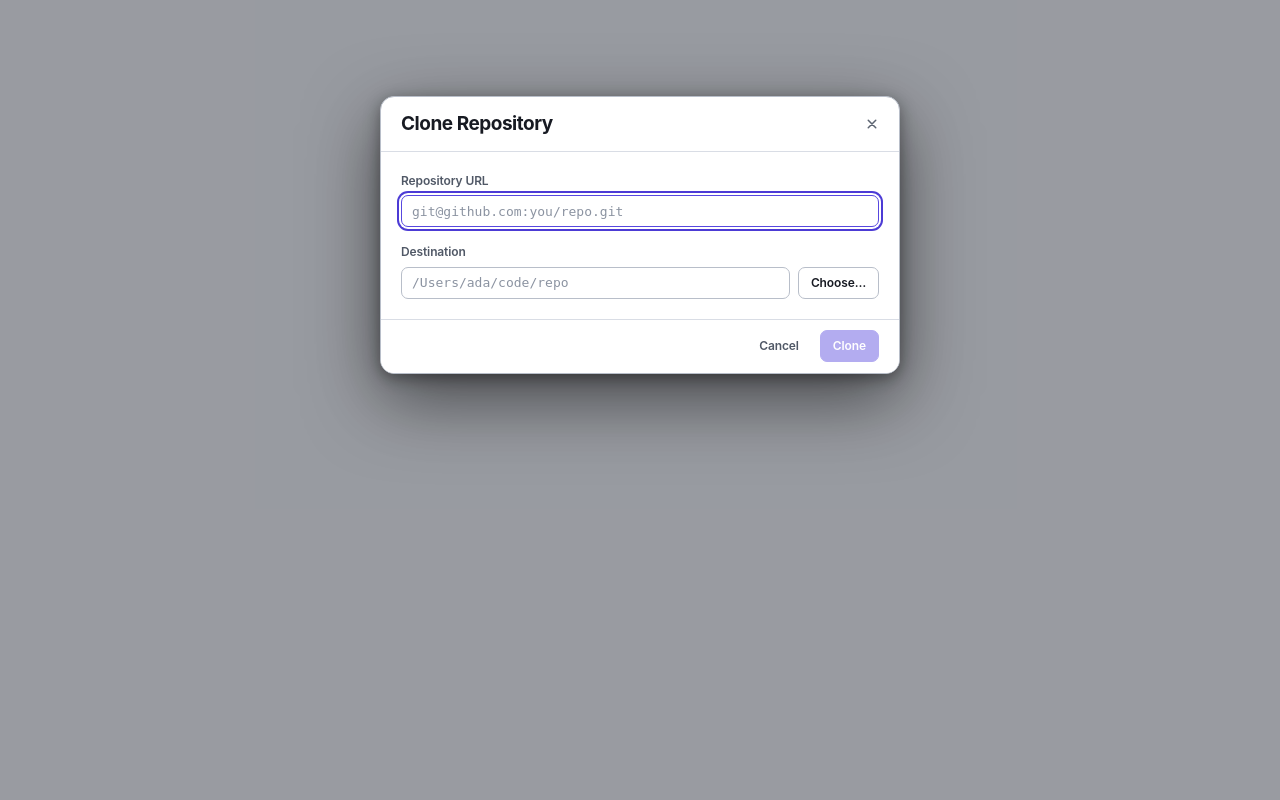
Scenario: cloning › spells the destination out from the home folder, as git will be given it
The image size is (1280, 800).
Type "git@github.com:acme/api.git" into the field labelled "Repository URL".
click(640, 211); type("git@github.com:acme/api.git")  # box [401,195,879,227]
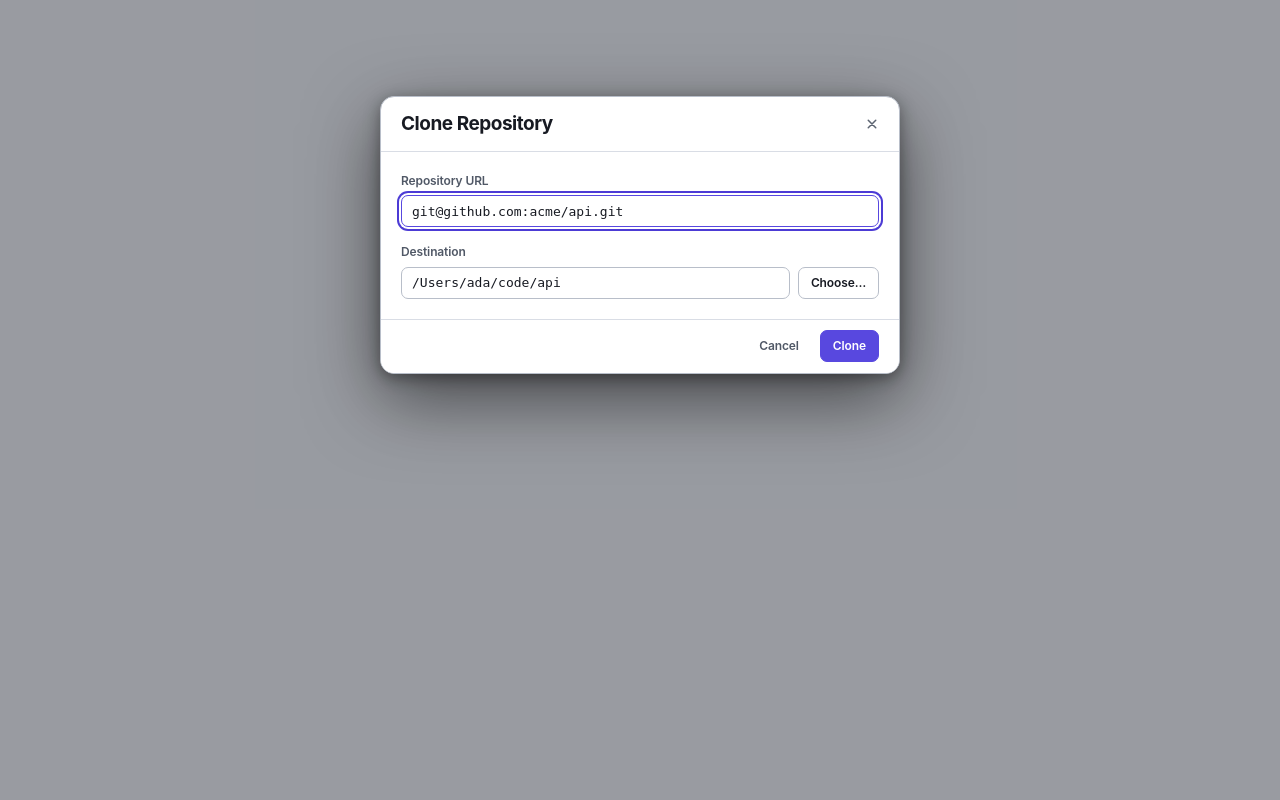
Expected: the field labelled "Destination" holds "/Users/ada/code/api", [401,267,790,299]
